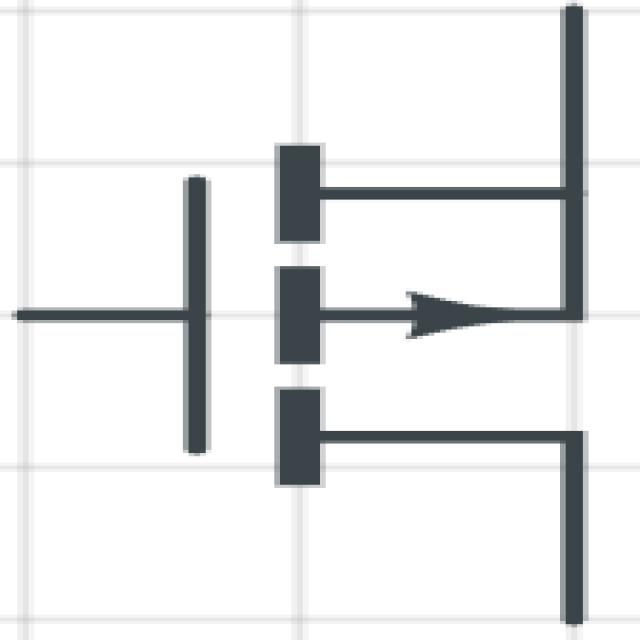nmos: (8, 14, 640, 620)
